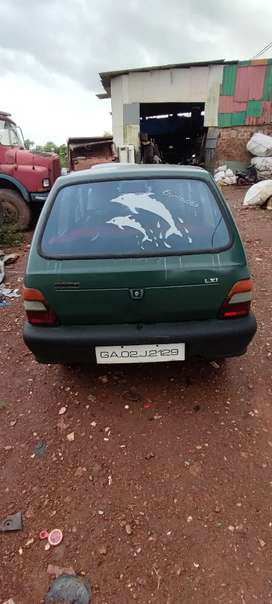GA02J2129: (95, 343, 185, 362)
